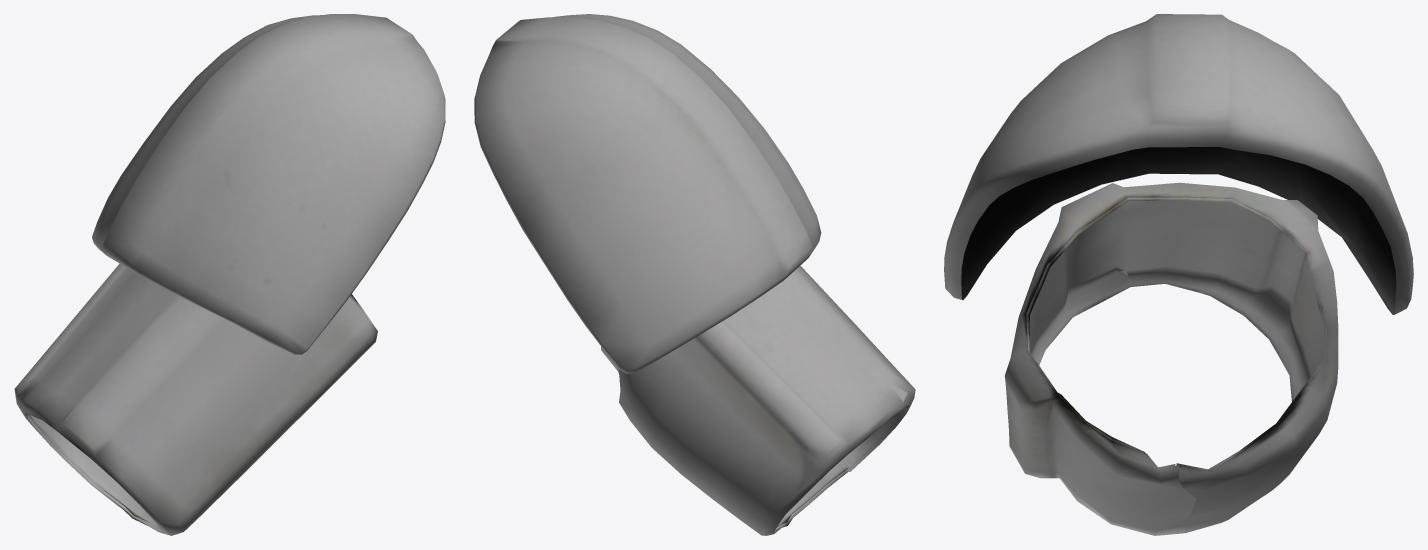
The model's file is Stormtrooper_UpperArmL.fbx.
The picture shows the model from 3 angles, left to right: view 1: azimuth 30°, elevation 25°; view 2: azimuth 150°, elevation 25°; view 3: azimuth 270°, elevation 25°; orthographic projection. The views are drawn at different scales.
Visible parts, largest first — view 1: UpperArmL; view 2: UpperArmL; view 3: UpperArmL.
Boxes of the visible parts, <box> form: UpperArmL: <box>14,14,445,535</box>; UpperArmL: <box>474,14,915,535</box>; UpperArmL: <box>944,14,1413,535</box>.
Size of the model in its own units: 0.3004 by 0.3464 by 0.2396.
